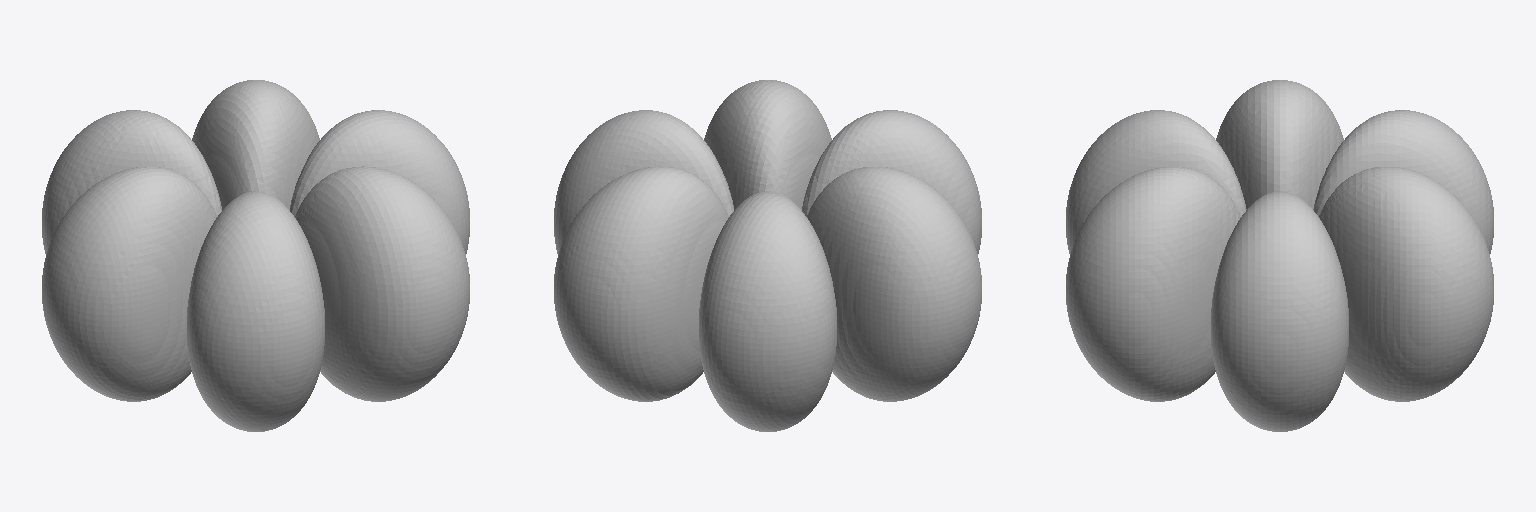
Rendered from orb_n=4_ l=3 _m=3.obj.
The picture shows the model from 3 angles: view 1: azimuth 30°, elevation 25°; view 2: azimuth 150°, elevation 25°; view 3: azimuth 270°, elevation 25°; orthographic projection.
Parts seen in each view (by area): view 1: orb_n=4__l=3__m=3; view 2: orb_n=4__l=3__m=3; view 3: orb_n=4__l=3__m=3.
Part boxes in pixels (bbox=[...]): orb_n=4__l=3__m=3: bbox=[42, 80, 469, 431]; orb_n=4__l=3__m=3: bbox=[554, 80, 981, 431]; orb_n=4__l=3__m=3: bbox=[1066, 80, 1493, 431].
Bounding box in the file's own units: 69.7 × 36.87 × 63.42.